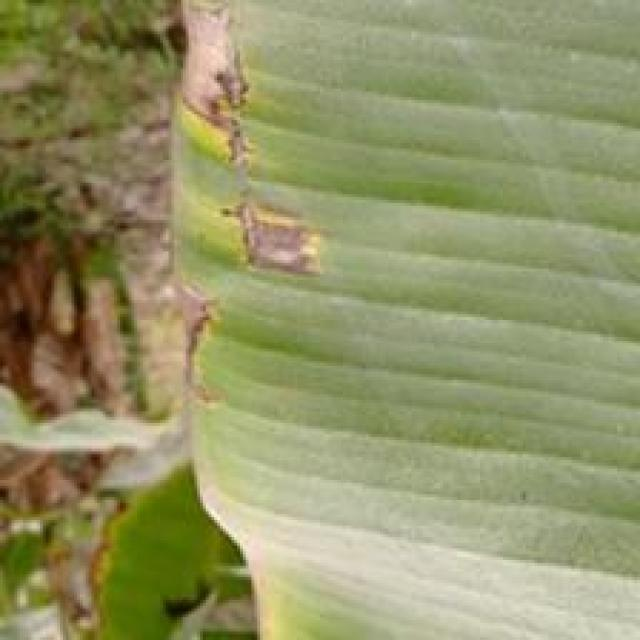Bacterial_spot: (215, 189, 342, 293), (163, 276, 230, 442)
